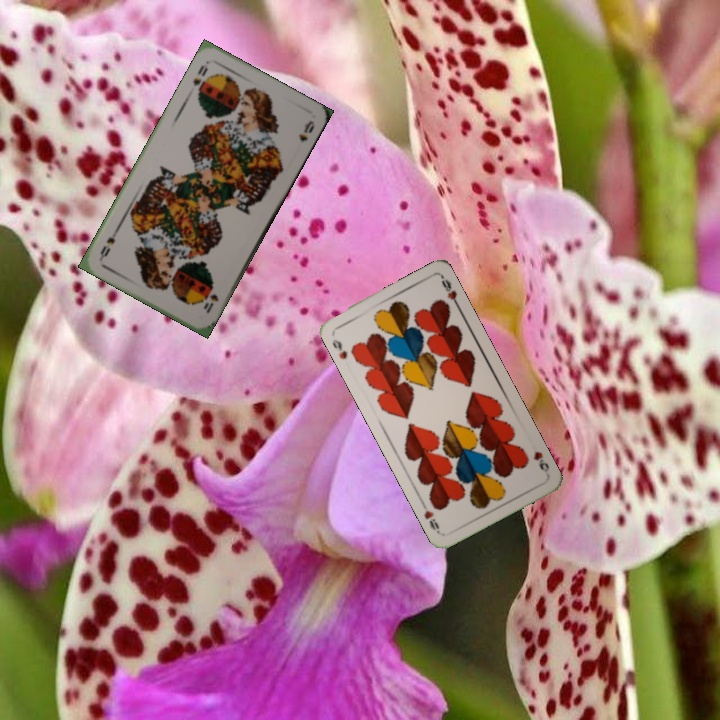H9: (529, 447, 552, 475), (328, 335, 350, 362)
SO: (199, 282, 221, 316), (189, 61, 210, 89)
